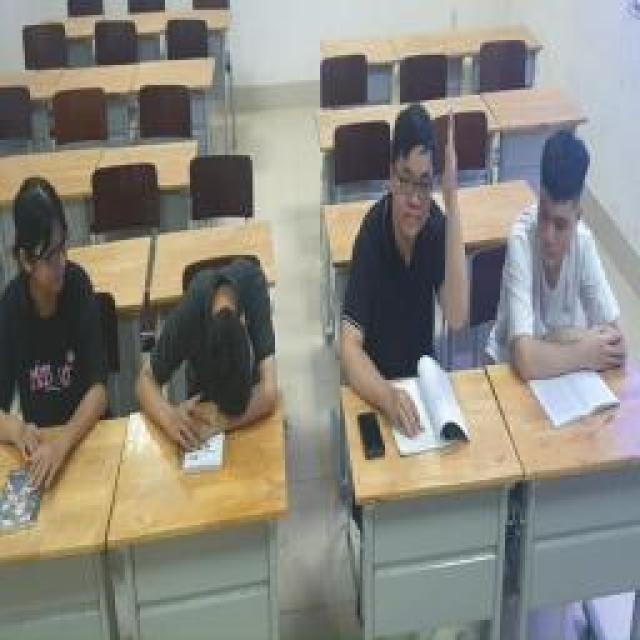sleep: (138, 260, 280, 458)
study: (322, 100, 480, 445), (0, 173, 110, 485), (497, 125, 615, 387)
